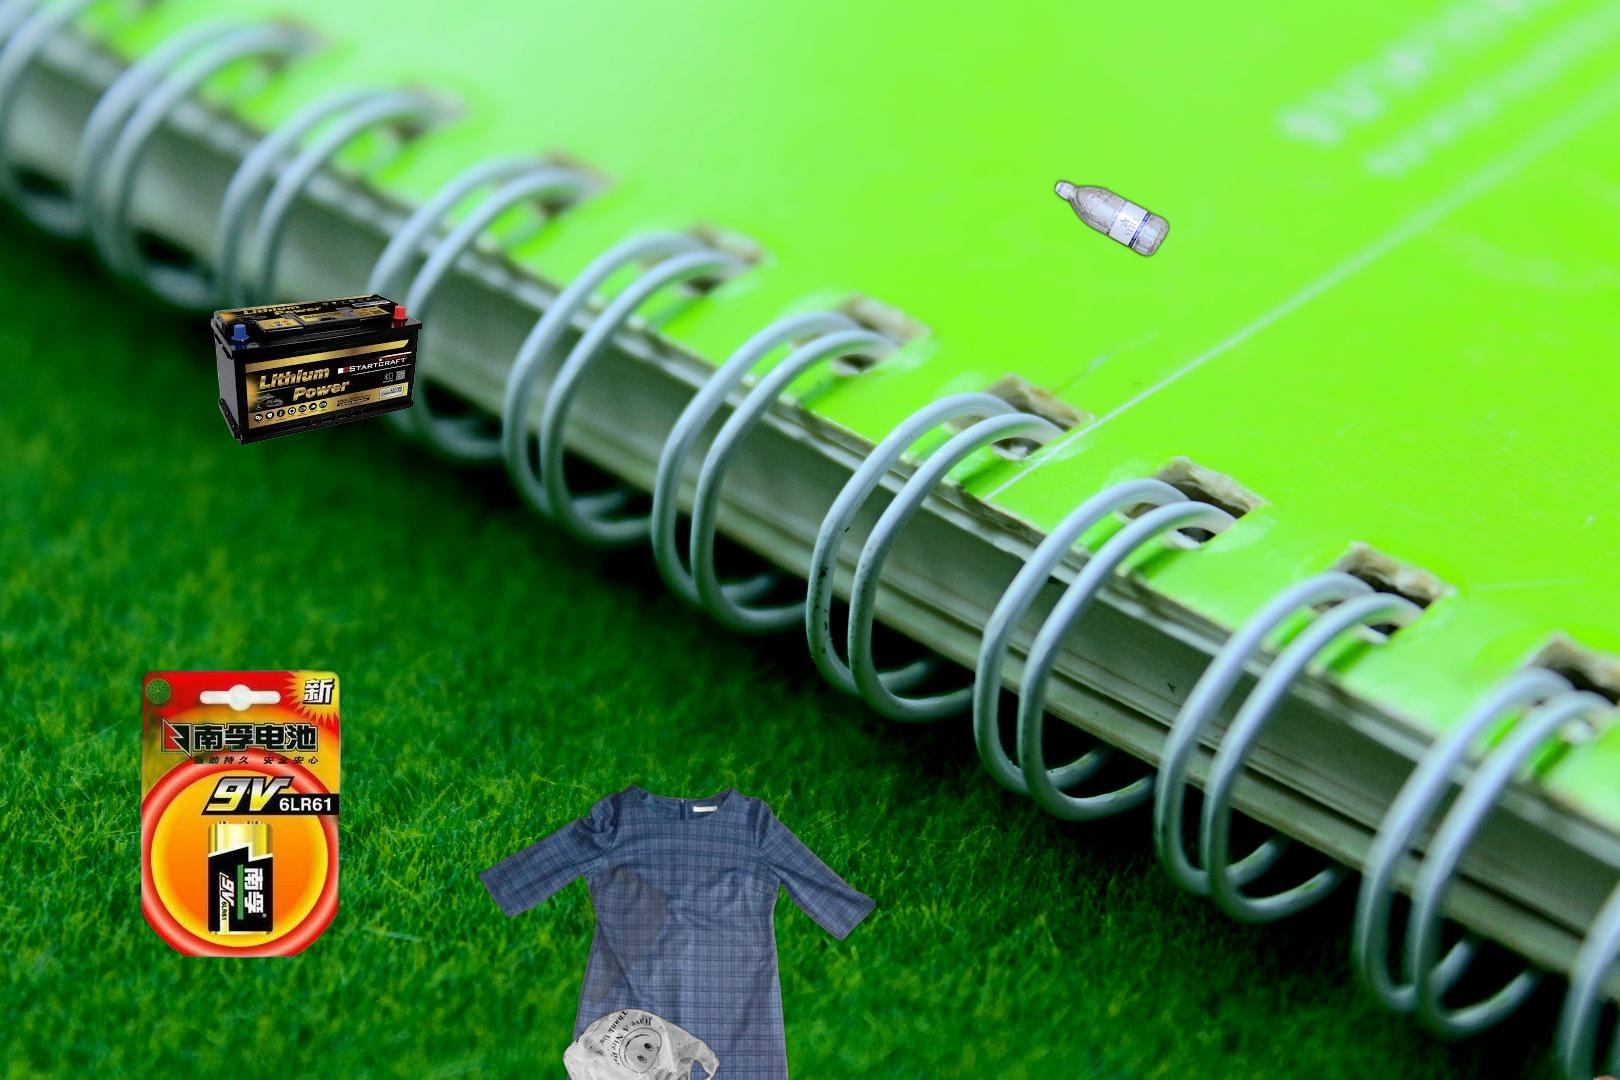battery: (137, 668, 346, 963), (209, 290, 425, 448)
clothes: (476, 708, 876, 1080)
paper: (1593, 952, 1620, 1080)
plastic-bag: (501, 846, 723, 1080)
plastic-bottles: (1050, 174, 1173, 262)
